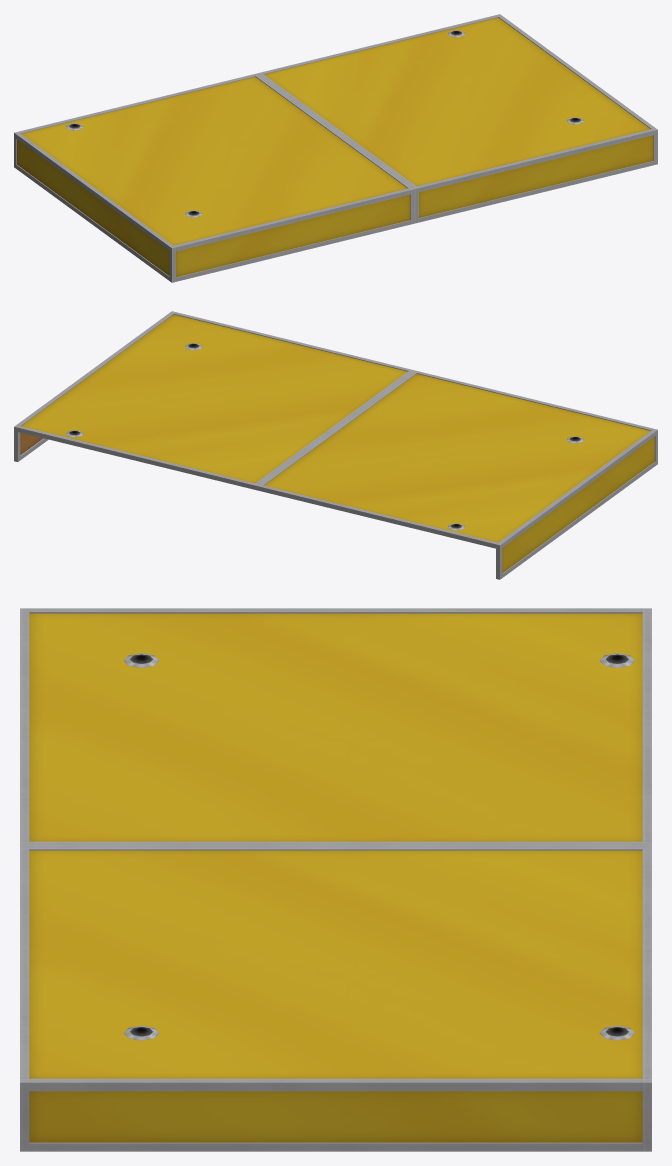
File: jsf_4P_s01_c03_t01_DX.fbx
The picture shows the model from 3 angles, top to bottom: view 1: azimuth 30°, elevation 25°; view 2: azimuth 150°, elevation 25°; view 3: azimuth 270°, elevation 25°; orthographic projection. The views are drawn at different scales.
Visible parts, largest first — view 1: jsf_4P_s01_c03_t01_DX; view 2: jsf_4P_s01_c03_t01_DX; view 3: jsf_4P_s01_c03_t01_DX.
Boxes of the visible parts, x1=… form: jsf_4P_s01_c03_t01_DX: x1=14, y1=14, x2=657, y2=282; jsf_4P_s01_c03_t01_DX: x1=14, y1=311, x2=657, y2=579; jsf_4P_s01_c03_t01_DX: x1=20, y1=608, x2=651, y2=1151.
Size of the model in its own units: 184 by 12.99 by 104.
